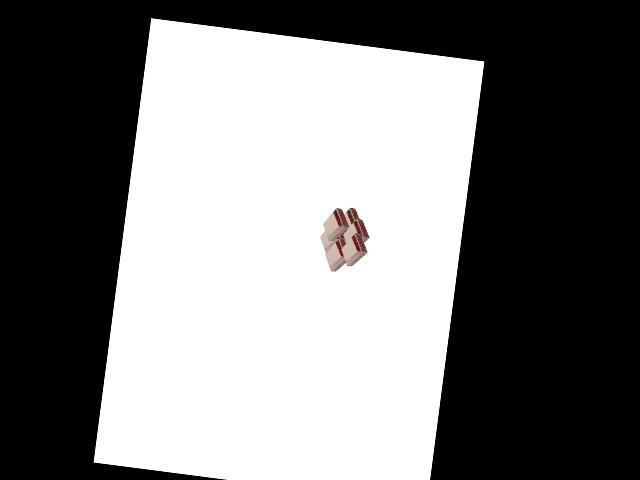chocolate: (314, 202, 371, 274)
